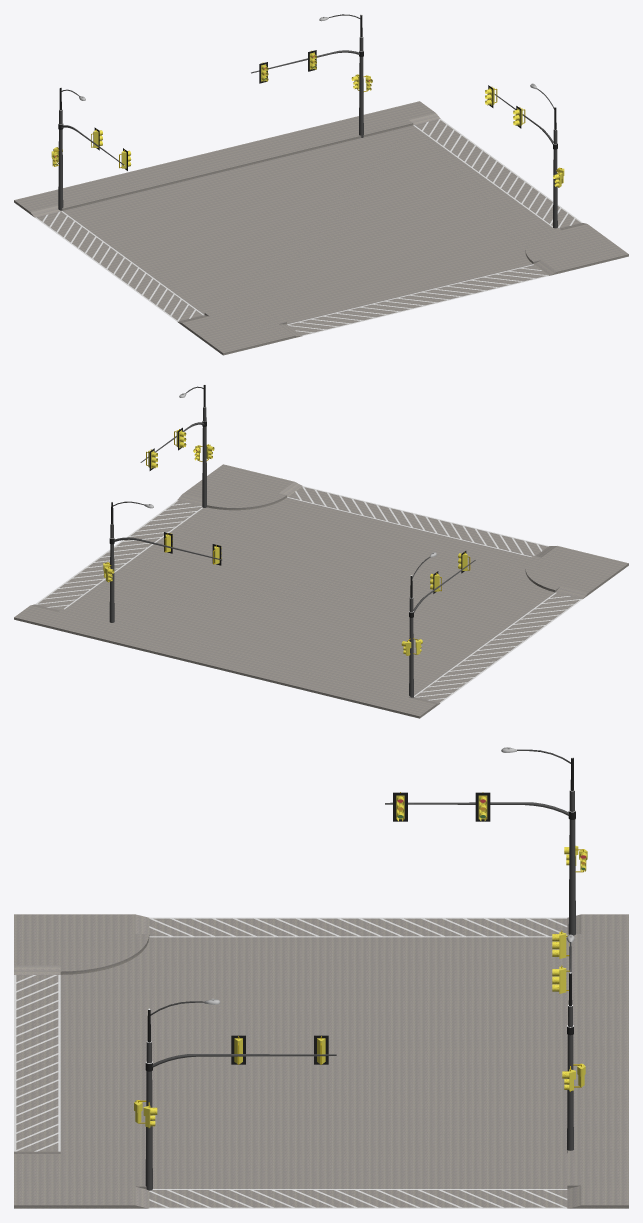
File: 3_intersection.dae
The picture shows the model from 3 angles, top to bottom: view 1: azimuth 30°, elevation 25°; view 2: azimuth 150°, elevation 25°; view 3: azimuth 270°, elevation 25°; orthographic projection. The views are drawn at different scales.
Visible parts, largest first — view 1: SketchUp (×4); view 2: SketchUp (×4); view 3: SketchUp (×4), Intersection_traffic_signals (×3).
Part boxes in pixels (<box>): SketchUp (×4): <box>14,101,628,355</box>; SketchUp (×4): <box>14,464,628,718</box>; SketchUp (×4): <box>14,914,628,1208</box>; Intersection_traffic_signals (×3): <box>145,791,575,1190</box>.
Size of the model in its own units: 1120 by 1000 by 341.
Materials: 12 (2 with a texture image).
